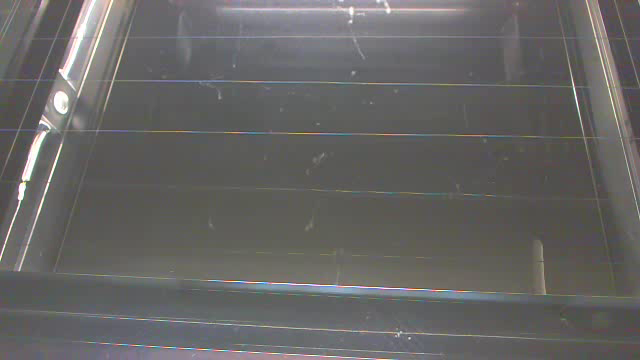alpha: (526, 235, 566, 294), (345, 66, 361, 82)
